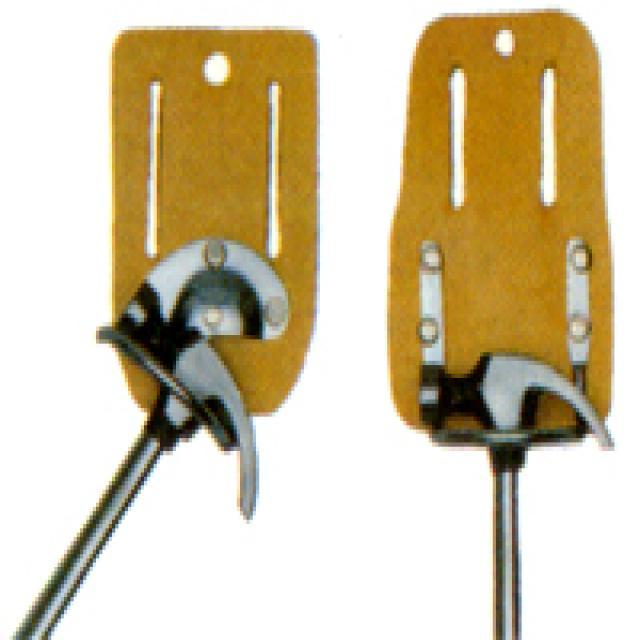hammer: (410, 352, 614, 640)
